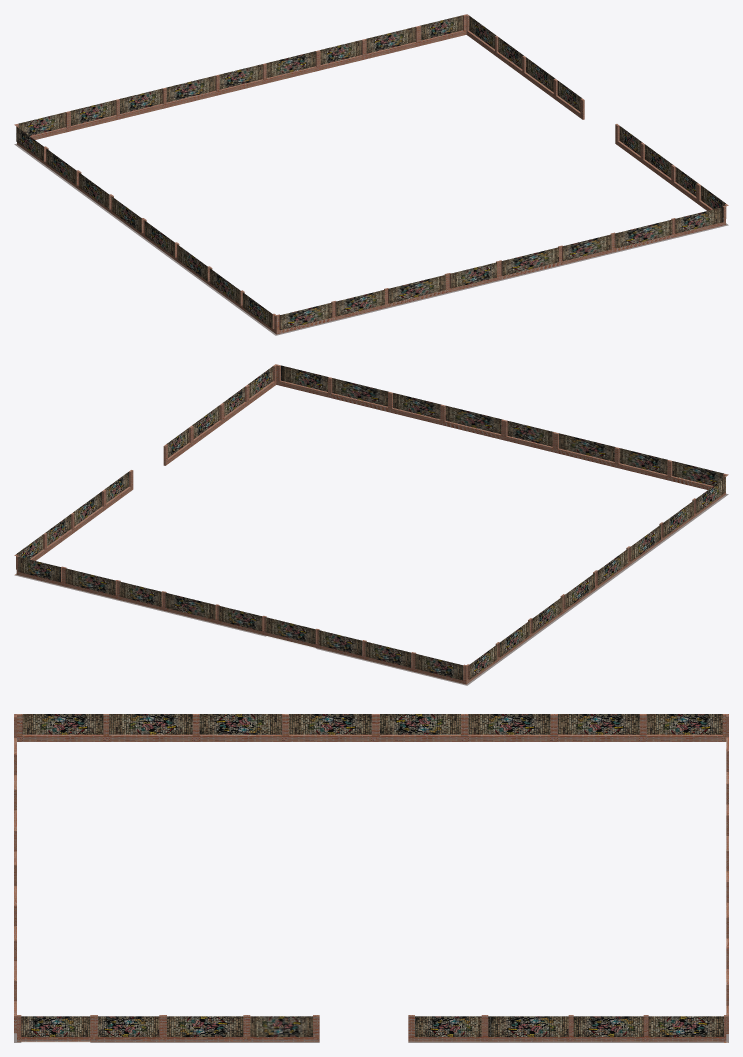
The model's file is wall.fbx.
The picture shows the model from 3 angles, top to bottom: view 1: azimuth 30°, elevation 25°; view 2: azimuth 150°, elevation 25°; view 3: azimuth 270°, elevation 25°; orthographic projection. The views are drawn at different scales.
Visible parts, largest first — view 1: wall; view 2: wall; view 3: wall.
Boxes of the visible parts, x1,y1,x2,y2 form: wall: [14, 14, 728, 335]; wall: [14, 364, 728, 685]; wall: [14, 714, 728, 1042].
Size of the model in its own units: 800 by 33.02 by 800.
